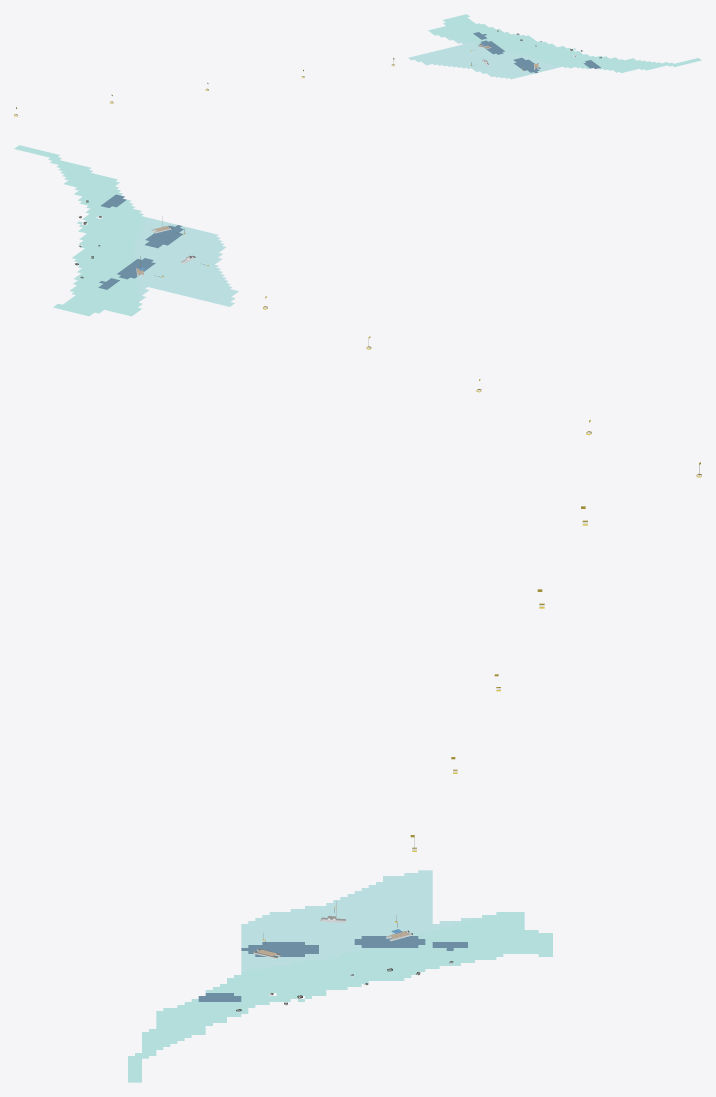
Rendered from nw_sw_malmok.glb.
3 views of the same model, one above another, from view 1: azimuth 30°, elevation 25°; view 2: azimuth 150°, elevation 25°; view 3: azimuth 270°, elevation 25° (orthographic). The views are drawn at different scales.
Parts seen in each view (by area): view 1: nw_sw_malmok_lod0; view 2: nw_sw_malmok_lod0; view 3: nw_sw_malmok_lod0.
Boxes of the visible parts, <box> form: nw_sw_malmok_lod0: <box>14,14,701,116</box>; nw_sw_malmok_lod0: <box>14,145,701,477</box>; nw_sw_malmok_lod0: <box>128,506,587,1082</box>.
Size of what is drawn, in the model's own units: 560 by 10.56 by 195.
